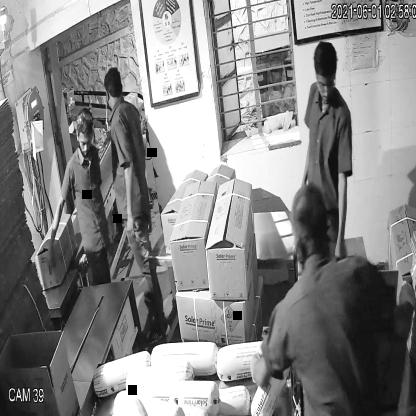no_goggles: (72, 131, 98, 154)
